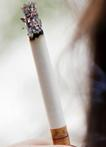smoke: (22, 3, 71, 145)
